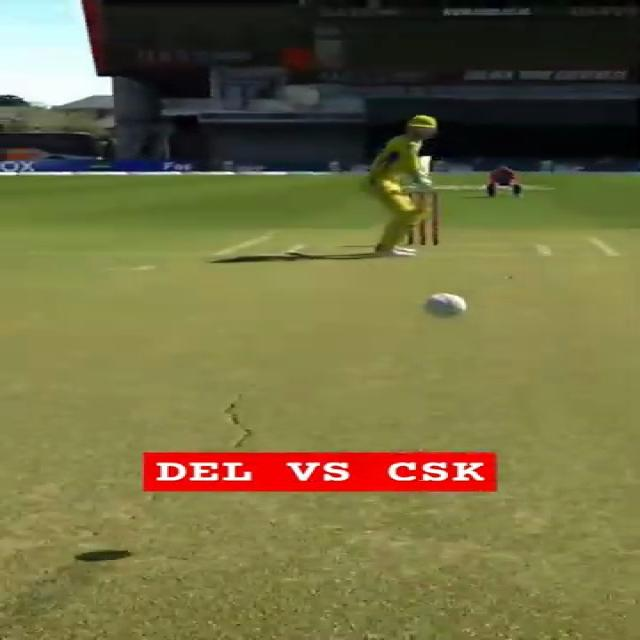ball: (420, 293, 471, 322)
